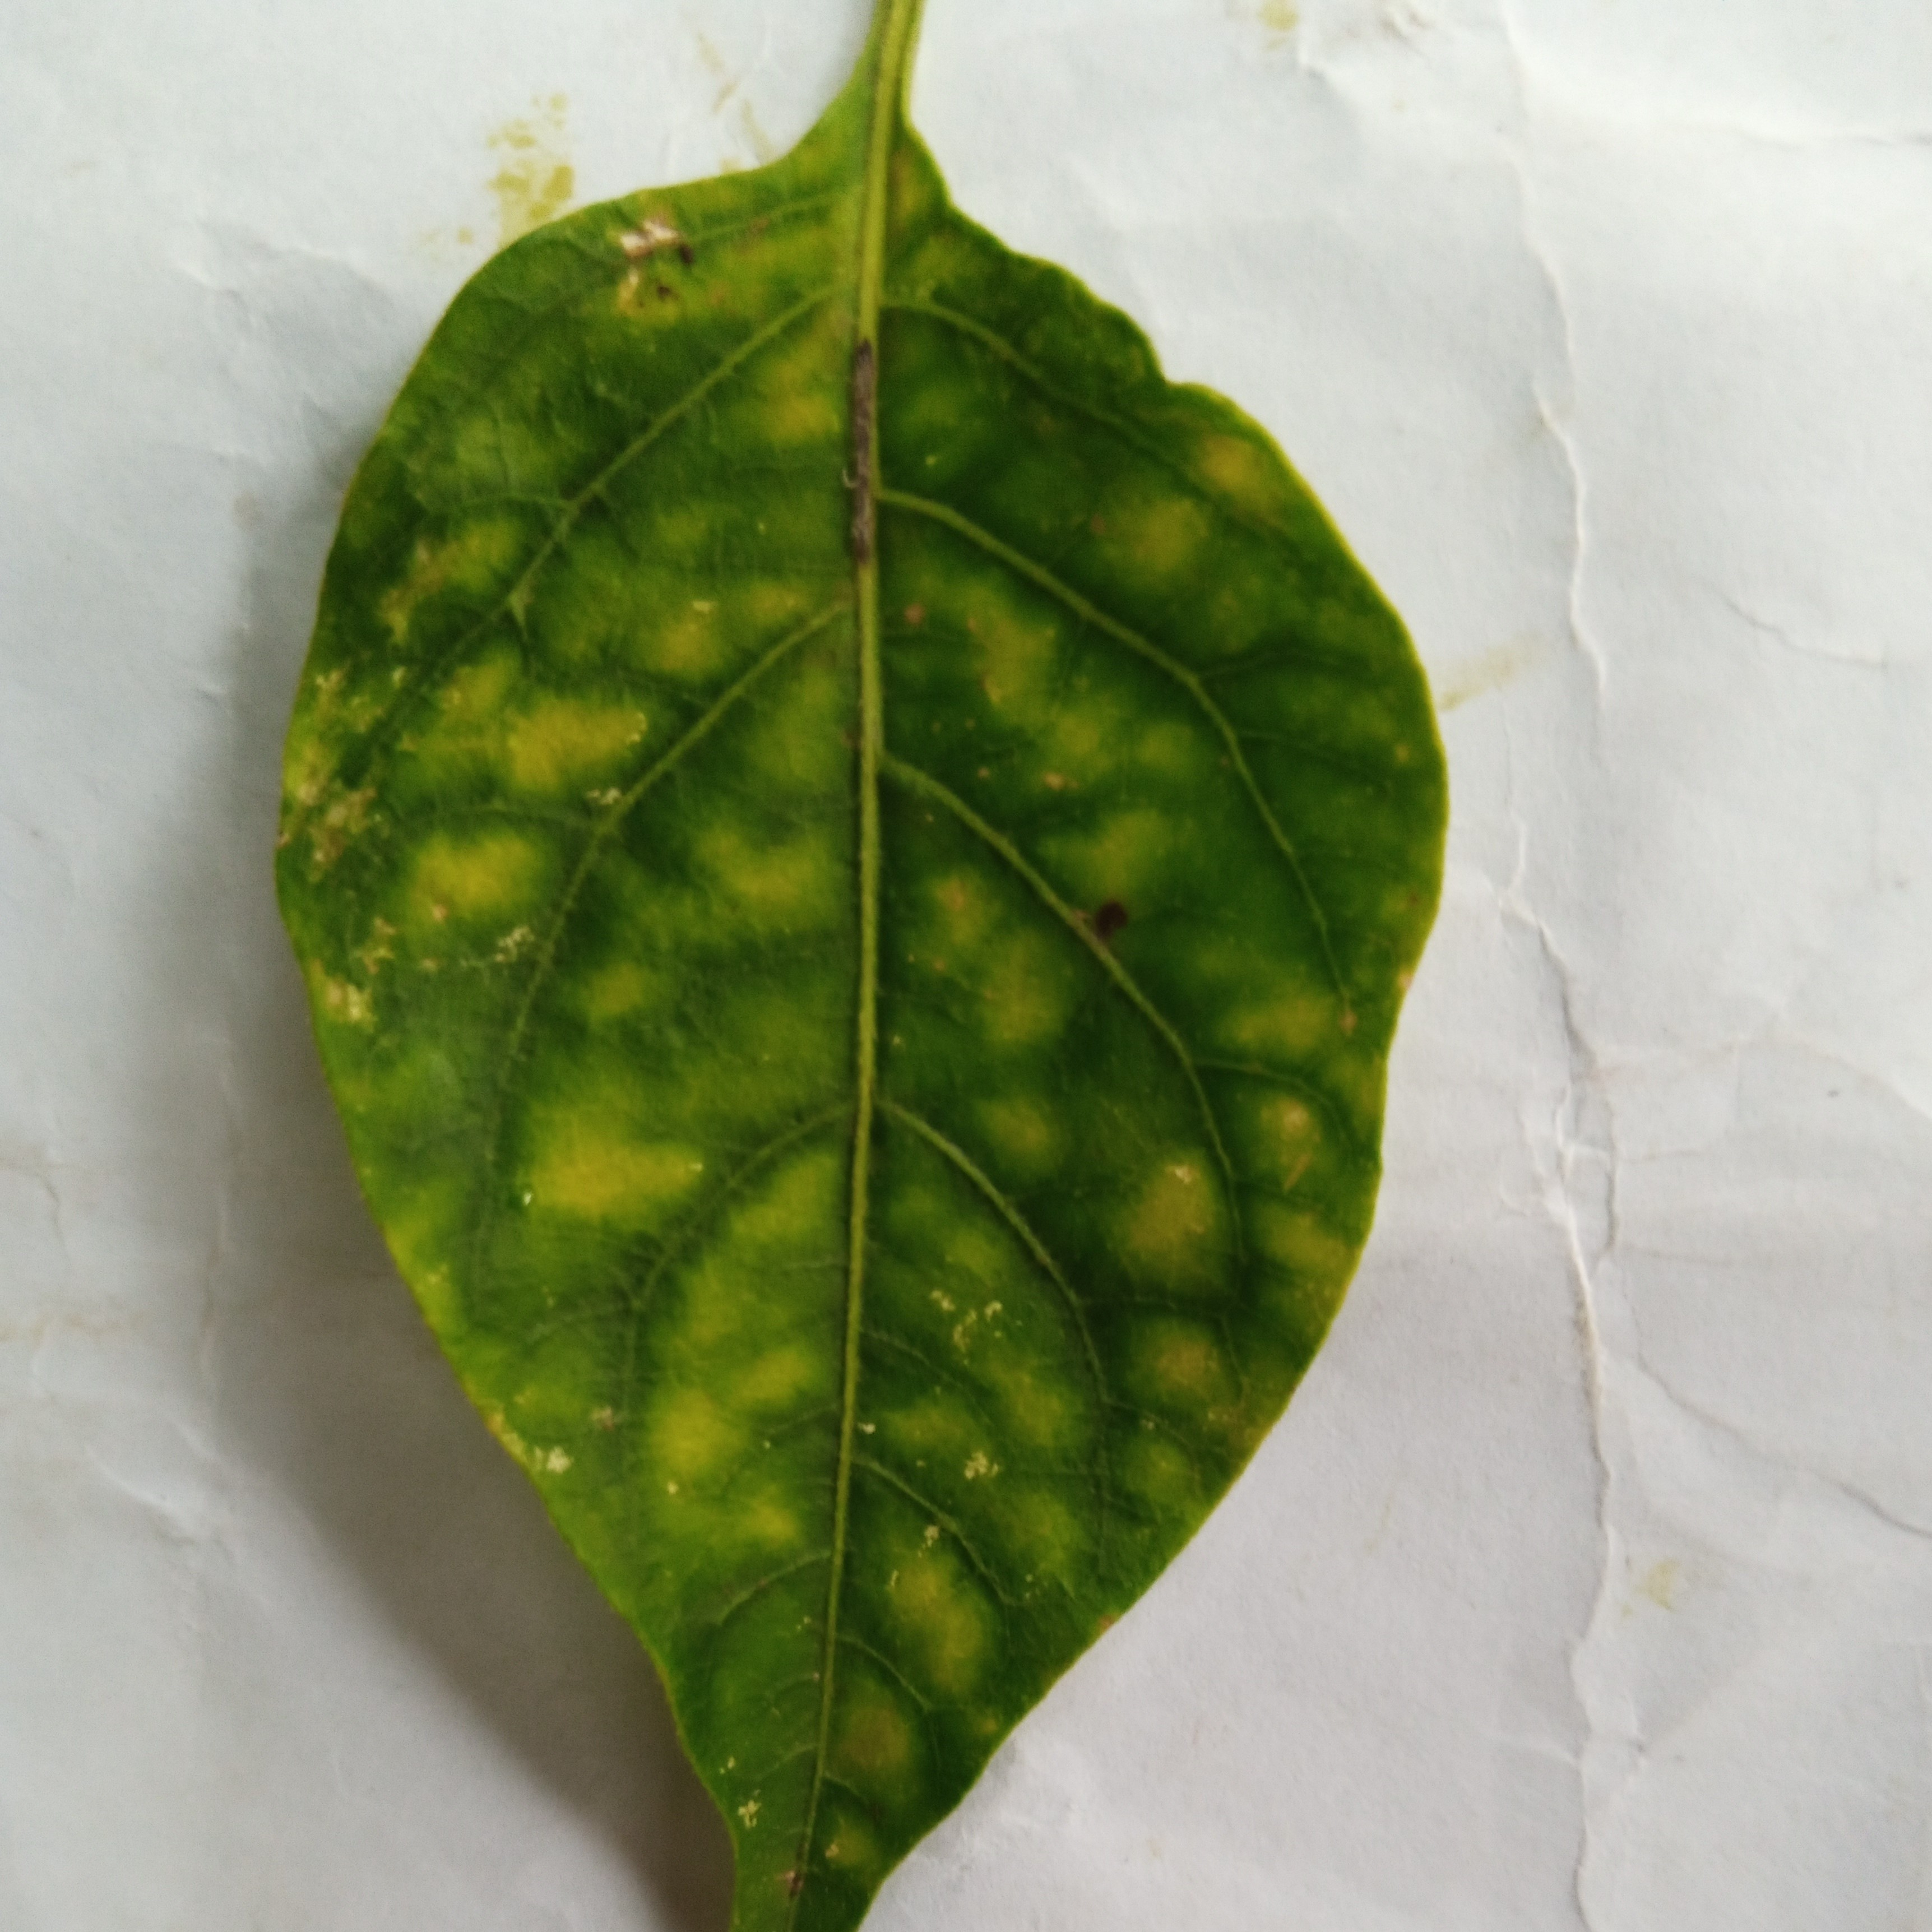Leaf: (175, 51, 1562, 1932)
